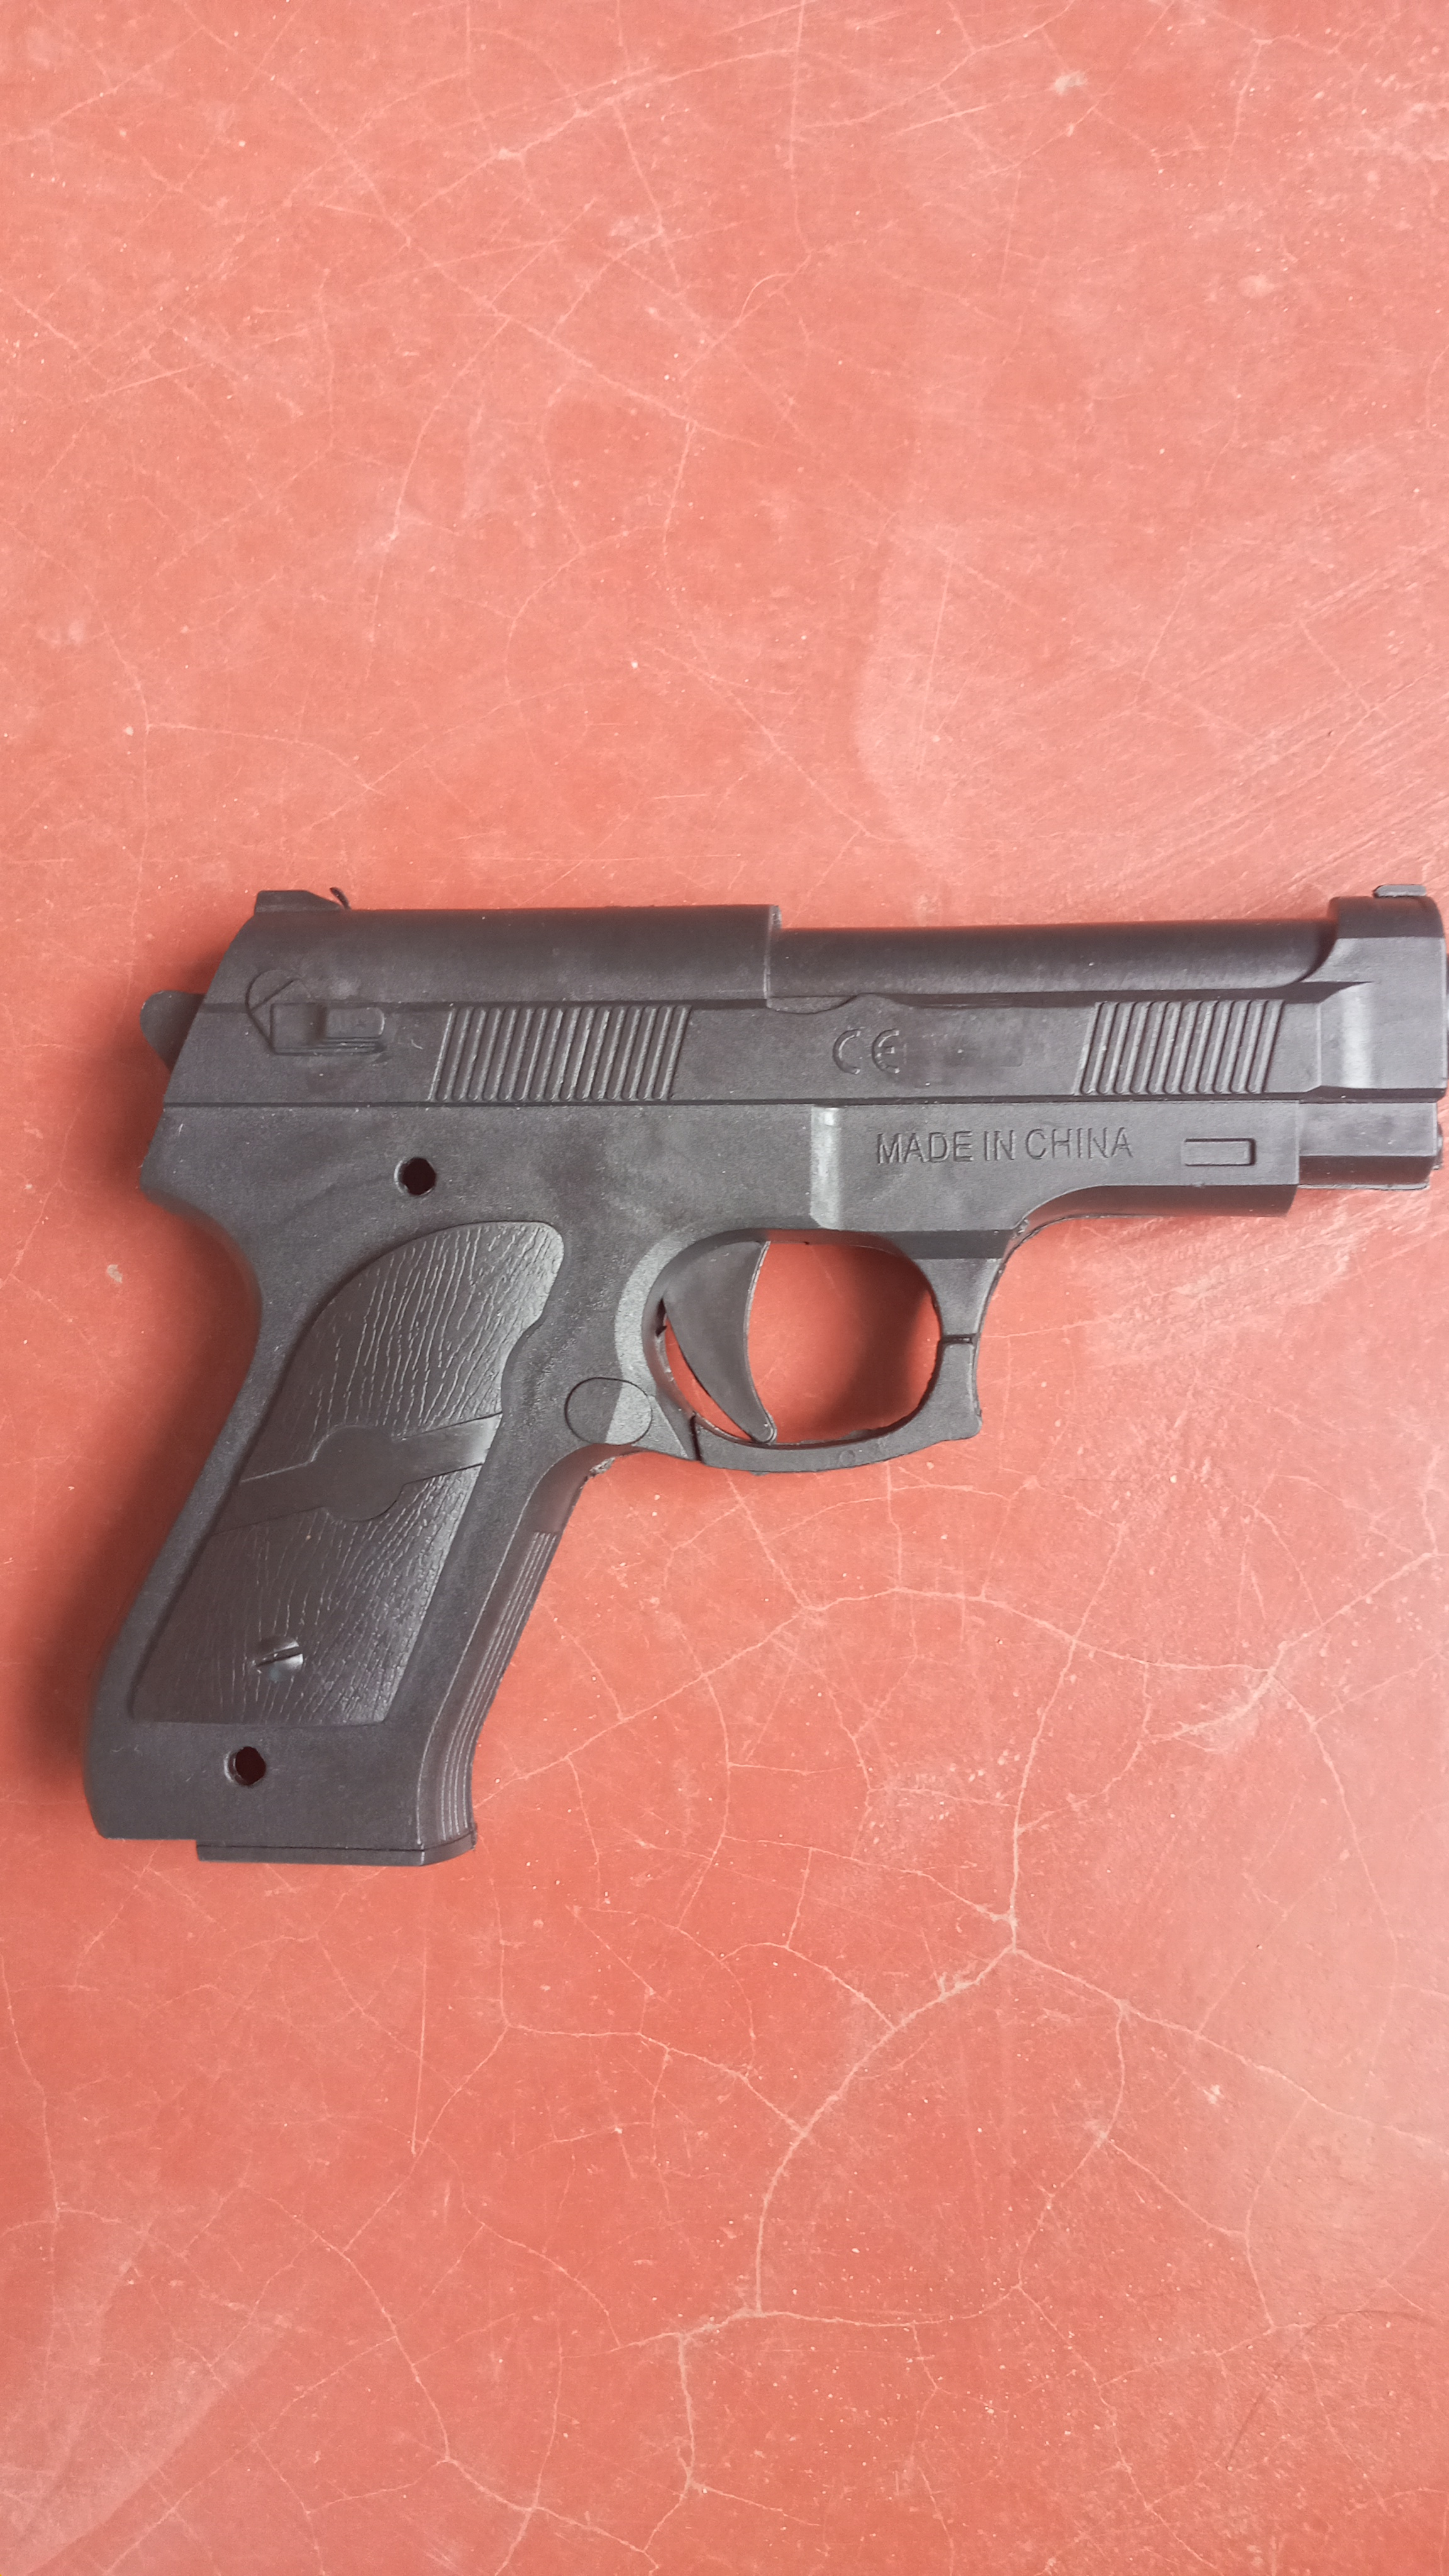Arma: (113, 867, 1442, 1465)
